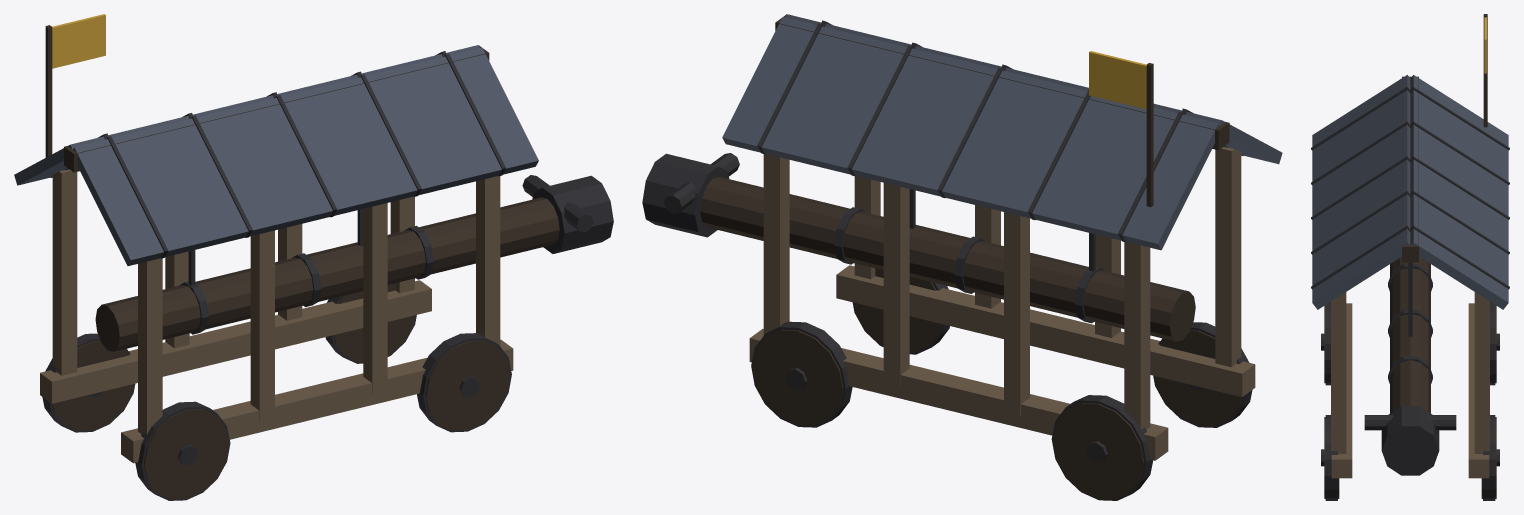
File: taran_yevropa.glb
The picture shows the model from 3 angles, left to right: view 1: azimuth 30°, elevation 25°; view 2: azimuth 150°, elevation 25°; view 3: azimuth 270°, elevation 25°; orthographic projection. The views are drawn at different scales.
Visible parts, largest first — view 1: Body, Log; view 2: Body, Log; view 3: Body, Log.
Boxes of the visible parts, bbox=[...] form: Body: bbox=[14, 14, 538, 500]; Log: bbox=[95, 175, 613, 351]; Body: bbox=[722, 14, 1282, 500]; Log: bbox=[642, 153, 1195, 341]; Body: bbox=[1311, 14, 1509, 500]; Log: bbox=[1364, 257, 1456, 475].
Bounding box in the file's own units: 7.5 × 5.63 × 2.91.
